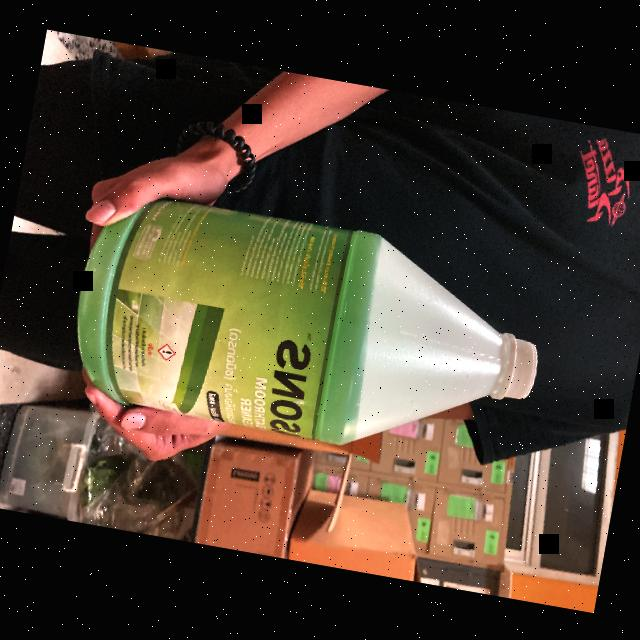chemical_plastic_gallon: (57, 174, 564, 482)
